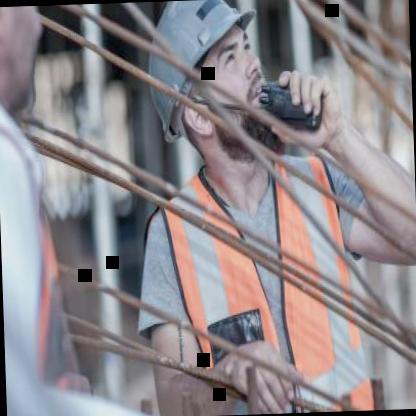helmet: (148, 0, 284, 140)
